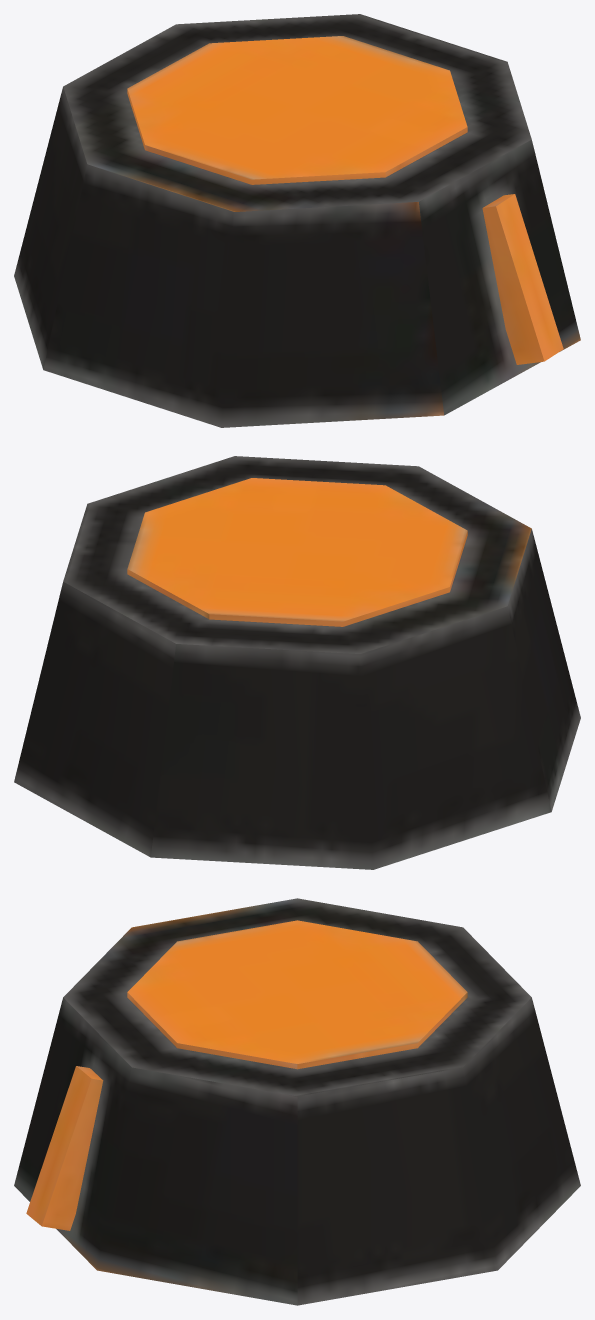
Rendered from charred_tree_ember_3.glb.
The picture shows the model from 3 angles, top to bottom: view 1: azimuth 30°, elevation 25°; view 2: azimuth 150°, elevation 25°; view 3: azimuth 270°, elevation 25°; orthographic projection. The views are drawn at different scales.
Visible parts, largest first — view 1: te_prop_charred_tree_ember_3; view 2: te_prop_charred_tree_ember_3; view 3: te_prop_charred_tree_ember_3.
Part boxes in pixels (x1,y1,x2,y2): te_prop_charred_tree_ember_3: (14, 14, 580, 427); te_prop_charred_tree_ember_3: (14, 456, 580, 869); te_prop_charred_tree_ember_3: (14, 898, 580, 1305).
Size of the model in its own units: 0.15 by 0.0565 by 0.15.
1 material, 1 textured.
